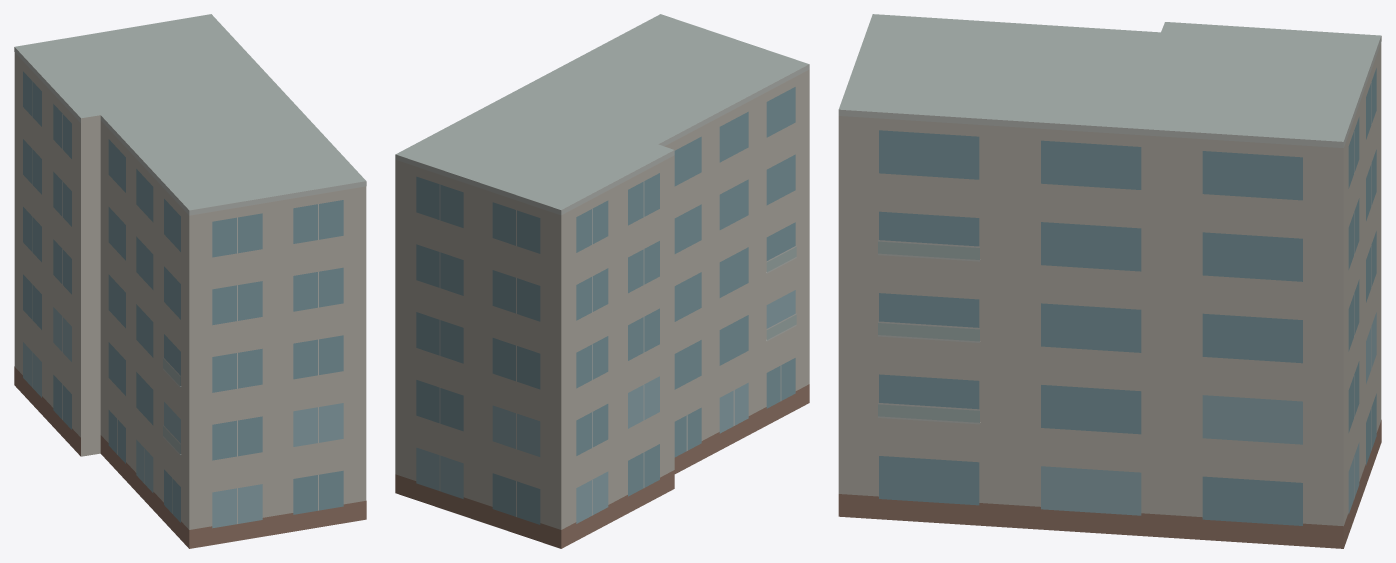
The model's file is survey-upis-32943689.glb.
3 views of the same model, side by side, from view 1: azimuth 30°, elevation 25°; view 2: azimuth 150°, elevation 25°; view 3: azimuth 270°, elevation 25° (orthographic). The views are drawn at different scales.
Parts seen in each view (by area): view 1: survey-upis-32943689.tmp; view 2: survey-upis-32943689.tmp; view 3: survey-upis-32943689.tmp.
Part boxes in pixels (<box>): survey-upis-32943689.tmp: <box>14,14,366,548</box>; survey-upis-32943689.tmp: <box>395,14,809,548</box>; survey-upis-32943689.tmp: <box>838,14,1381,548</box>.
Size of the model in its own units: 10.72 by 15.9 by 19.23.
